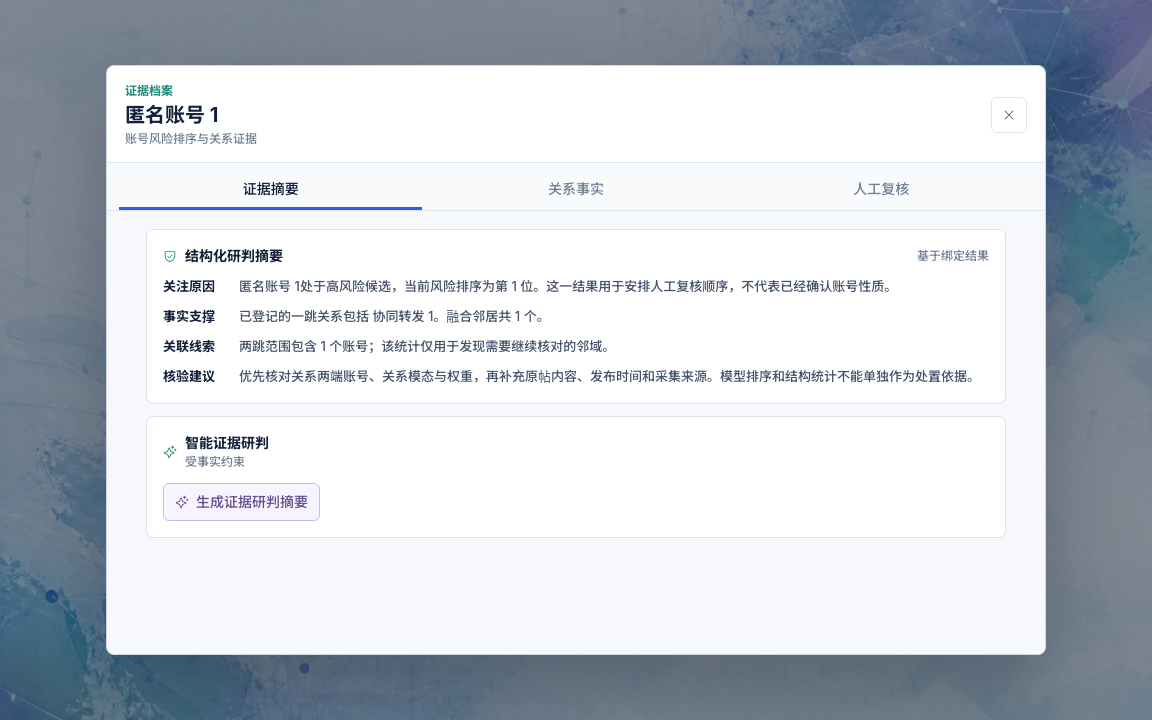
Test: EvidenceDossier › times out an explicit summary without hiding deterministic evidence
Click the button "生成证据研判摘要" at (242, 502), box [163, 483, 320, 521]
Wait 30000 ms
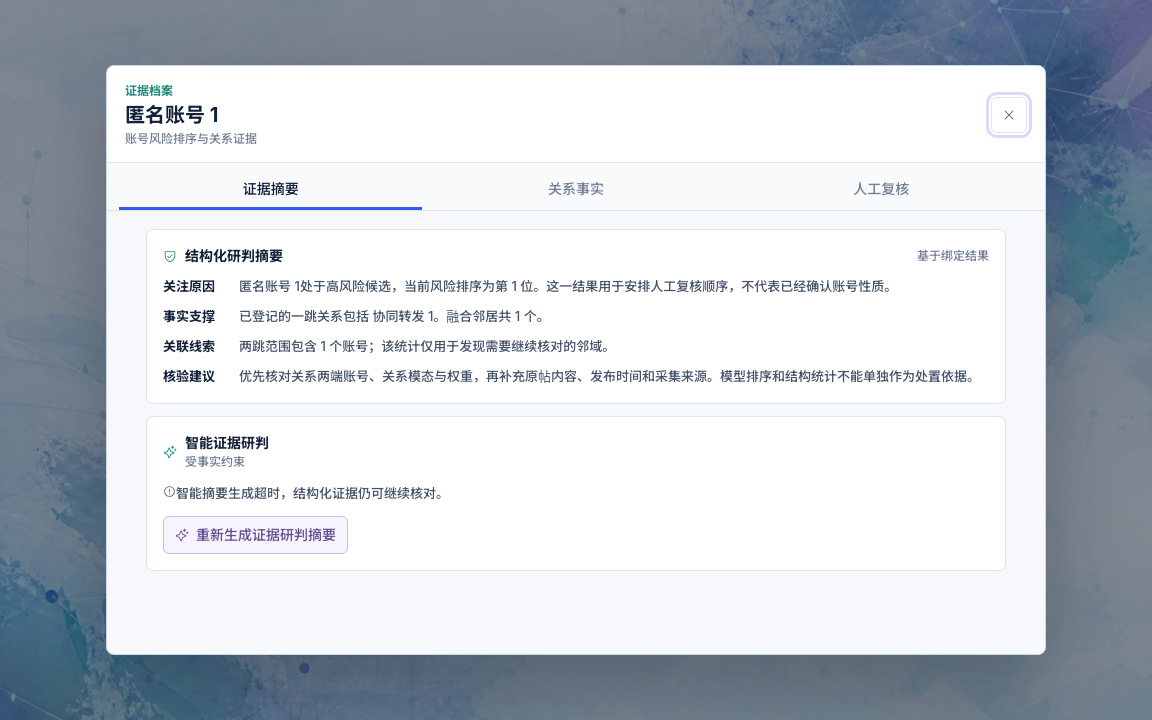
Expected: the text "结构化研判摘要" is shown, [185, 246, 283, 266]
Result: the text "智能摘要生成超时，结构化证据仍可继续核对。" is shown at [163, 485, 449, 501]
